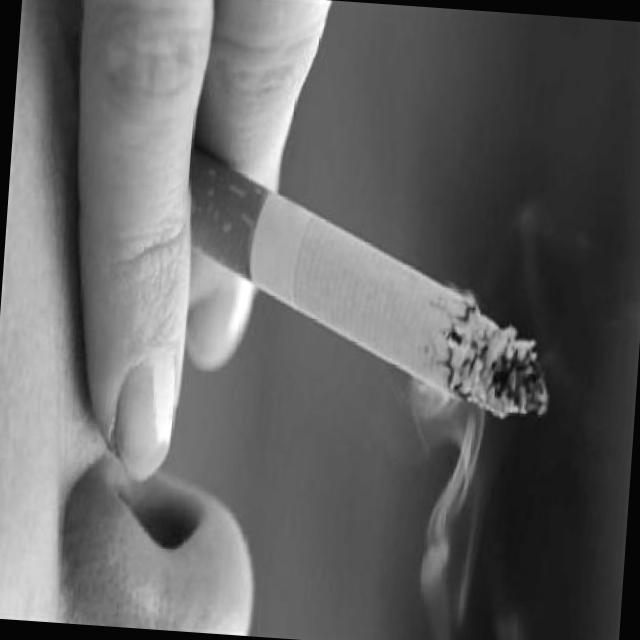cigarette: (173, 149, 566, 424)
